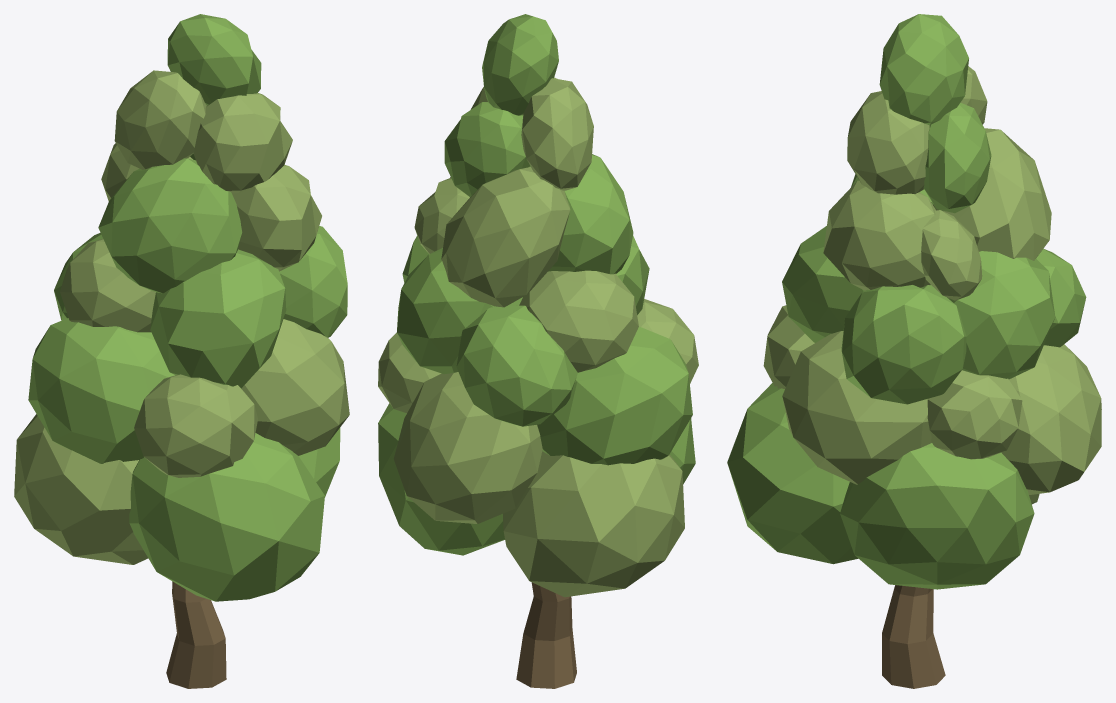
Rendered from Poplar_Tree.glb.
3 views of the same model, side by side, from view 1: azimuth 30°, elevation 25°; view 2: azimuth 150°, elevation 25°; view 3: azimuth 270°, elevation 25° (orthographic). The views are drawn at different scales.
Visible parts, largest first — view 1: Poplar; view 2: Poplar; view 3: Poplar.
Part boxes in pixels (x1,y1,x2,y2): Poplar: (14,14,349,688); Poplar: (378,14,698,688); Poplar: (727,14,1101,688).
Bounding box in the file's own units: 2.69 × 5.82 × 2.96.
